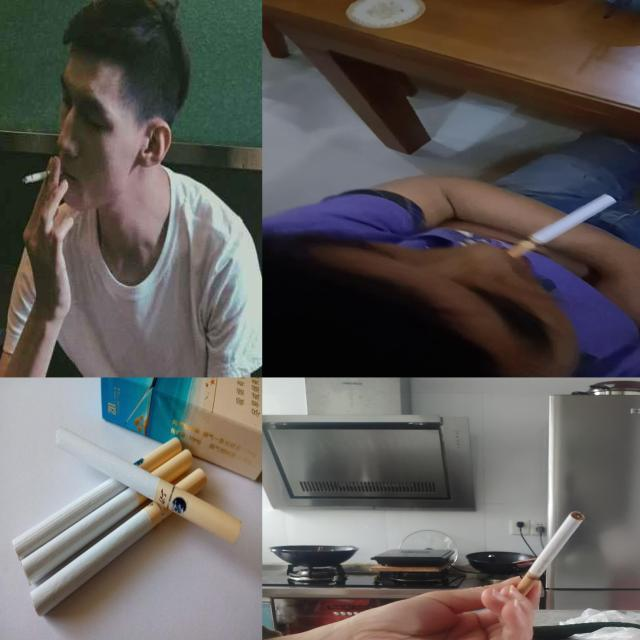smoking: (31, 468, 208, 616), (21, 449, 194, 586), (55, 424, 242, 546), (11, 437, 182, 561), (505, 510, 587, 606), (507, 194, 618, 258), (22, 168, 65, 185)
